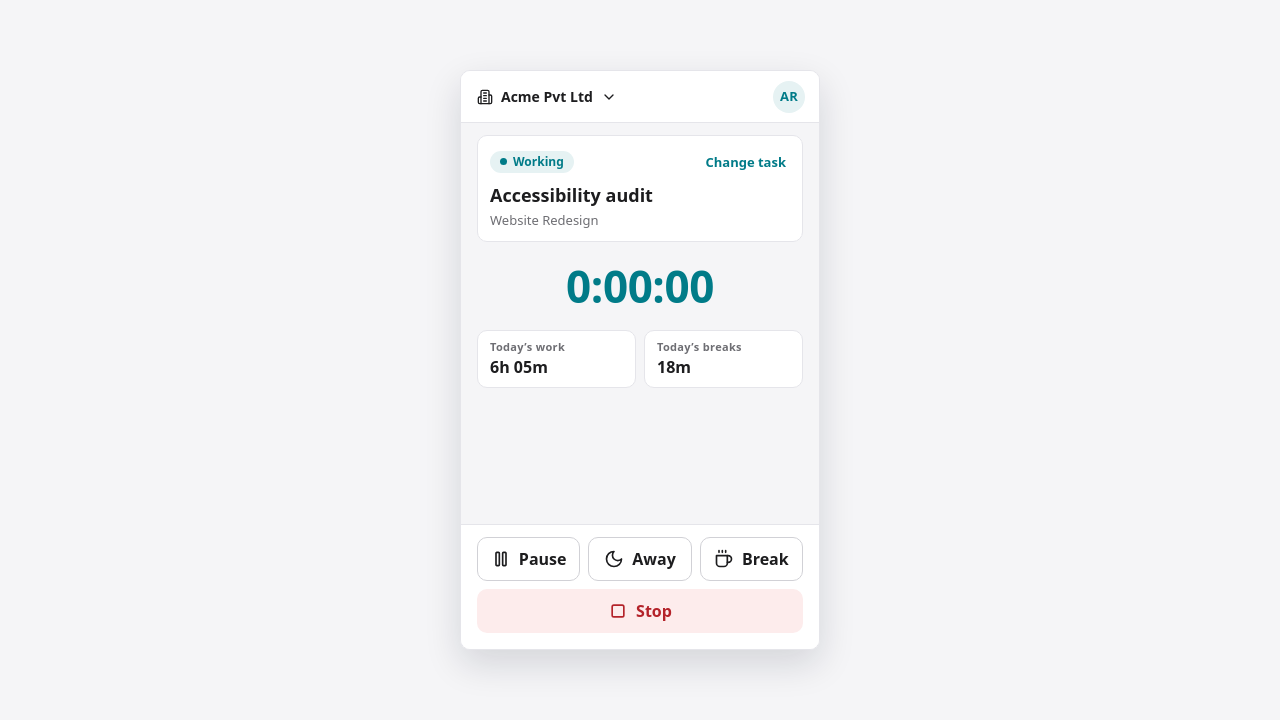
timer view per state › break: choose a reason, see time against the limit, then over the limit
Later steps or results of the test are not shown.
Expected: the heading "Accessibility audit" is shown, [490,183,653,207]
Click the button "Break" at (751, 559), box [700,537,803,581]
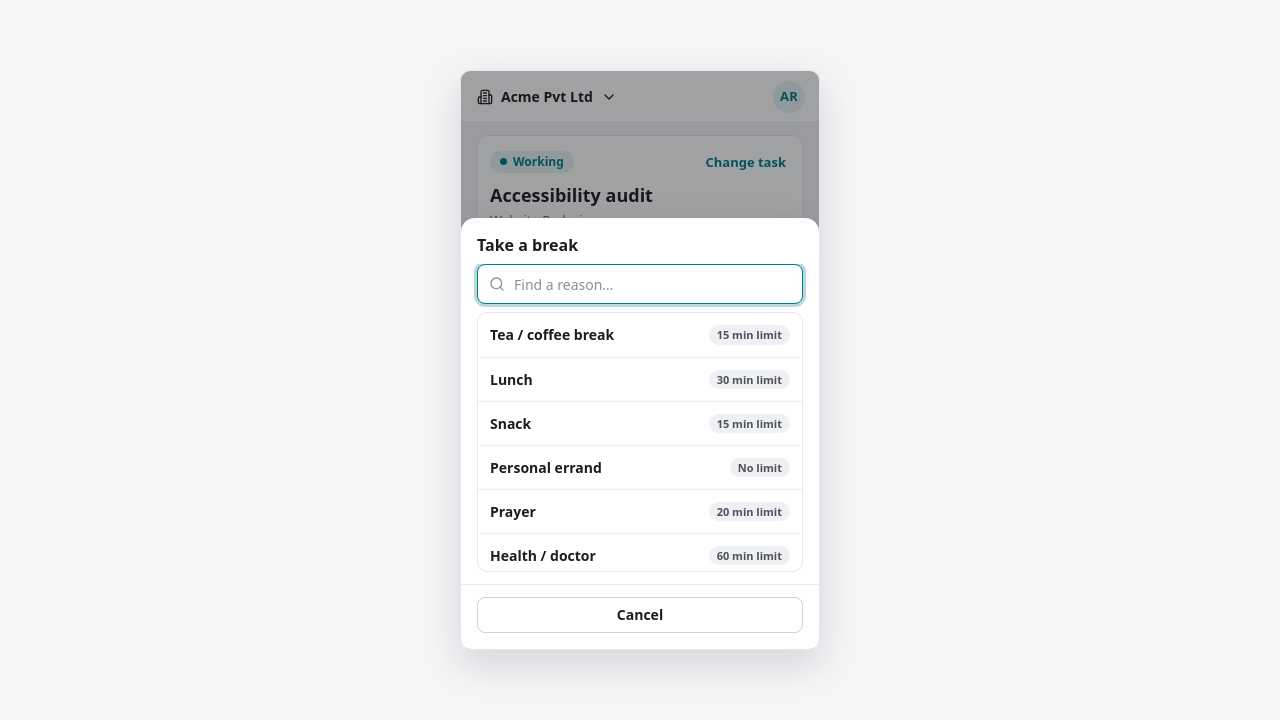
Now the text "Lunch" is shown, box [490,370,533,389]
Type "tea" into the search field at (640, 284), box [477,264,803,304]
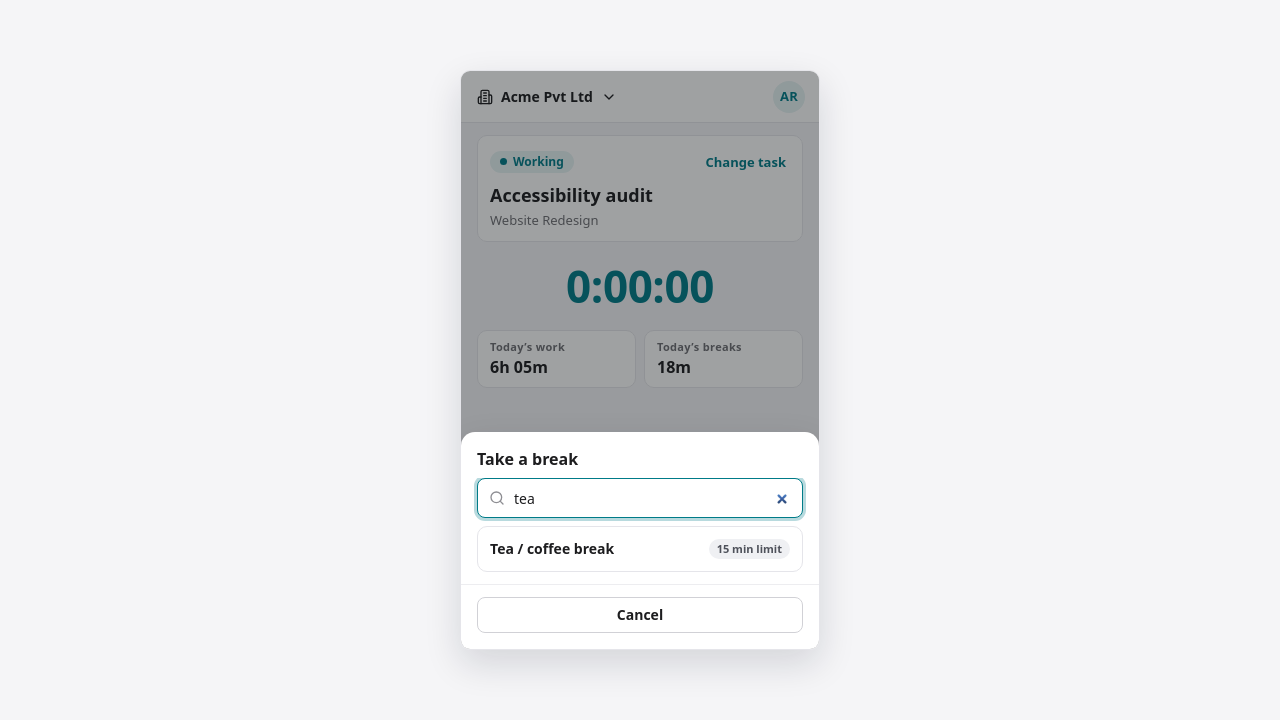
Now the button "Lunch" is gone
